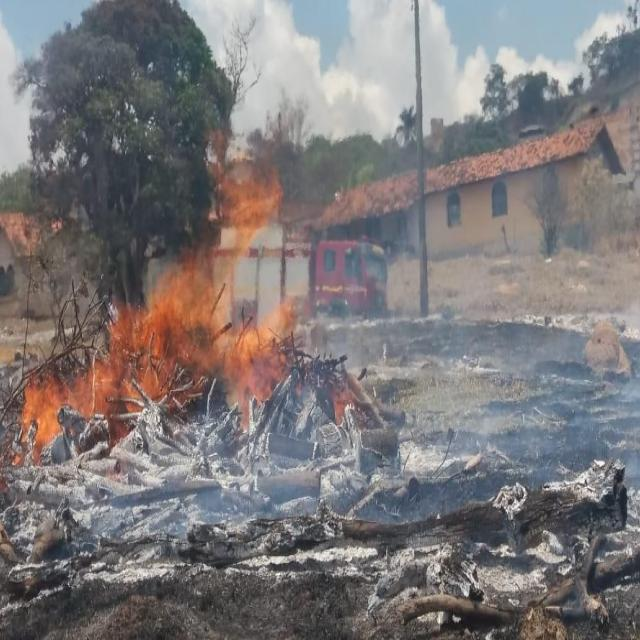Fire: (14, 121, 300, 437), (332, 379, 355, 425)
